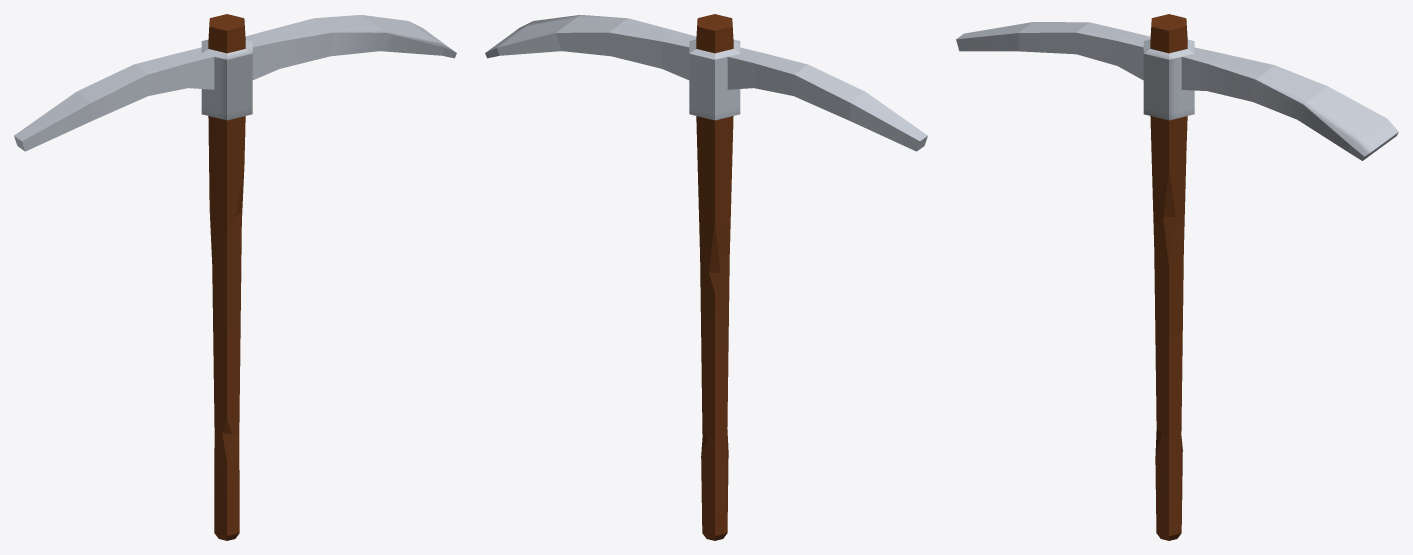
The model's file is M_Axe.fbx.
3 renders of one model, left to right at view 1: azimuth 30°, elevation 25°; view 2: azimuth 150°, elevation 25°; view 3: azimuth 330°, elevation 25°, orthographic.
Parts seen in each view (by area): view 1: M_Drilling; view 2: M_Drilling; view 3: M_Drilling.
Part boxes in pixels (x1,y1,x2,y2): M_Drilling: (14, 14, 456, 540); M_Drilling: (485, 14, 927, 540); M_Drilling: (956, 14, 1398, 540).
Bounding box in the file's own units: 87.06 × 101 × 13.08.
Materials: 1 (1 with a texture image).
